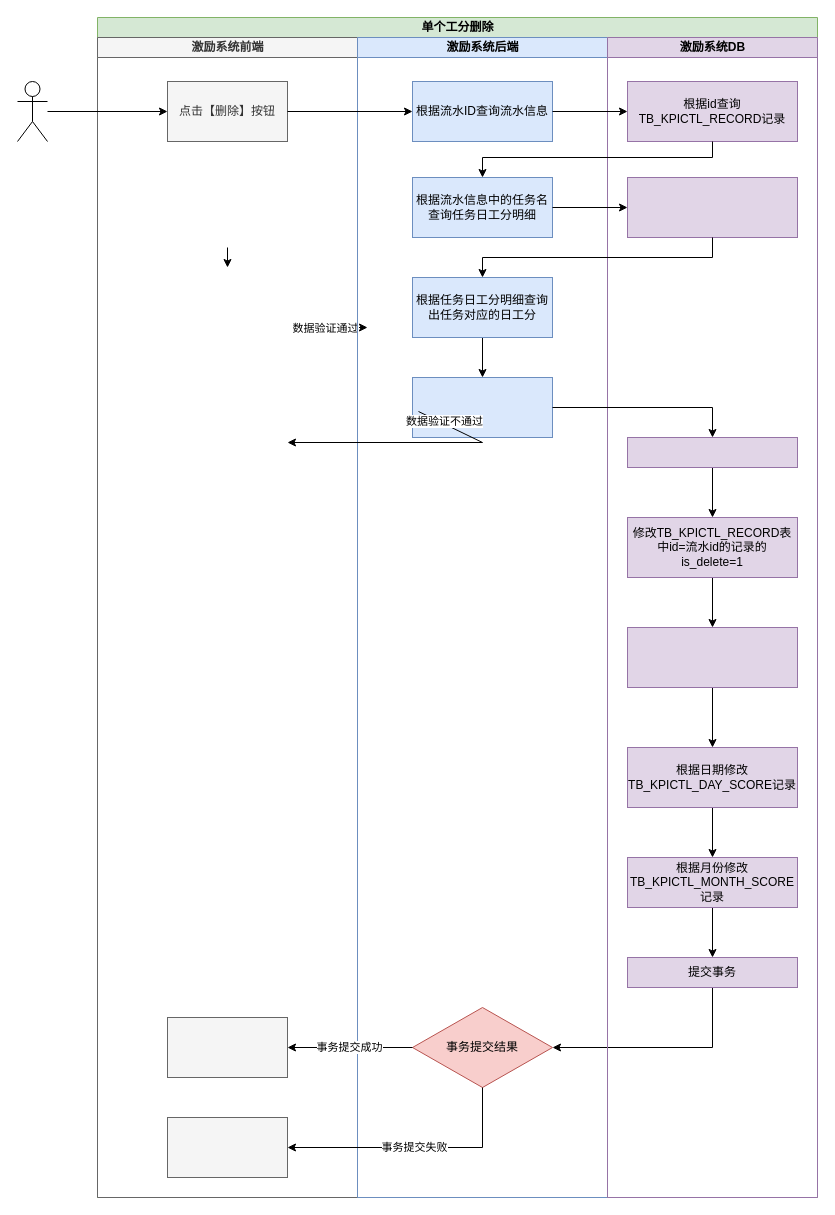
This 835x1215 diagram has some shape labels left out. Each missing label, with the centre of its shape:
修改TB_KPICTL_DAY_RECORD表中record_id = 流水id的记录的is_delete=1: point 712,657
开始事务: point 712,452
提示删除成功: point 227,1047
提示数据库异常，请稍后重试: point 227,1147
根据record_id查询TB_KPICTL_DAY_RECORD记录: point 712,207
根据任务对应的日工分计算出任务对应的月工分: point 482,407
用户: point 32,111
